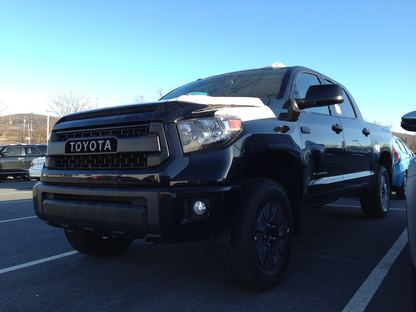car: (400, 110, 416, 269), (0, 146, 47, 180), (393, 137, 414, 200), (28, 156, 46, 180)
truck: (33, 62, 392, 290)
